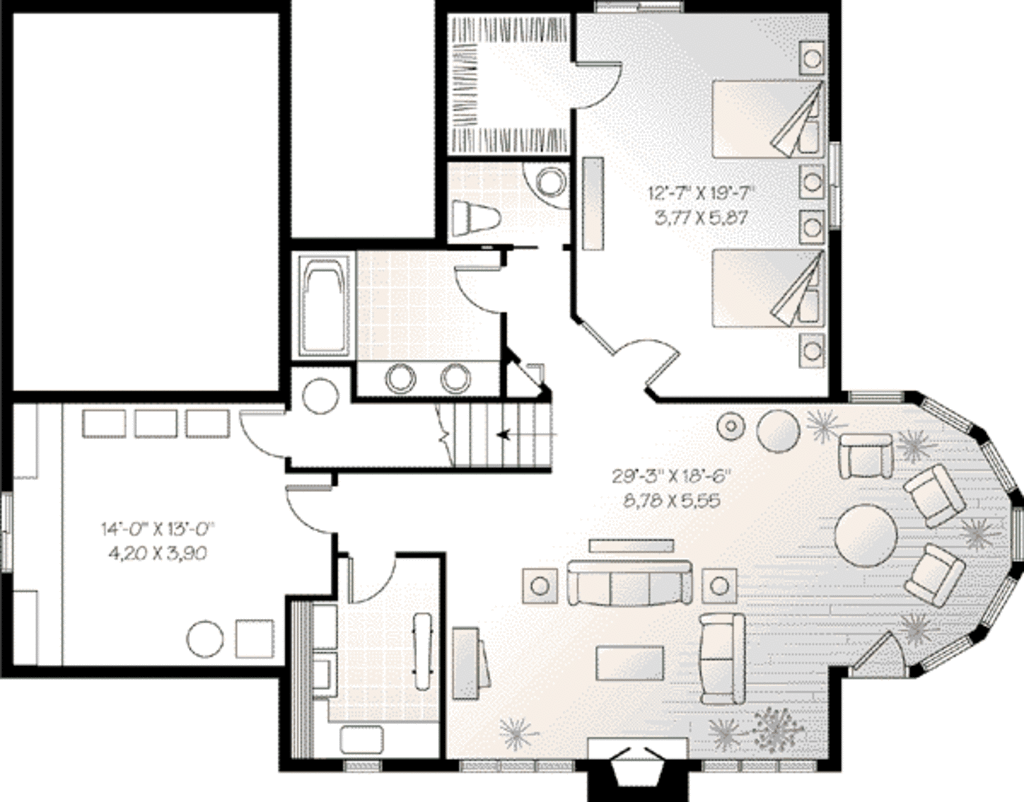bed: (699, 240, 830, 338), (704, 71, 829, 167)
door: (613, 321, 684, 385), (235, 402, 299, 463), (331, 553, 401, 607), (448, 257, 510, 314), (848, 626, 912, 679), (573, 54, 627, 115), (286, 480, 340, 540)
large_sink: (451, 188, 515, 243)
large_sofa: (565, 557, 704, 612), (694, 608, 749, 707)
small_sink: (354, 357, 504, 402)
small_sofa: (898, 462, 975, 532), (890, 543, 968, 604), (834, 425, 904, 488)
stairs: (401, 399, 571, 475)
tub: (291, 246, 356, 358)
window: (915, 629, 987, 679), (818, 130, 851, 232), (977, 568, 1021, 637), (920, 392, 976, 437), (981, 437, 1024, 495), (587, 1, 685, 17), (847, 387, 908, 412), (1007, 501, 1024, 561)
